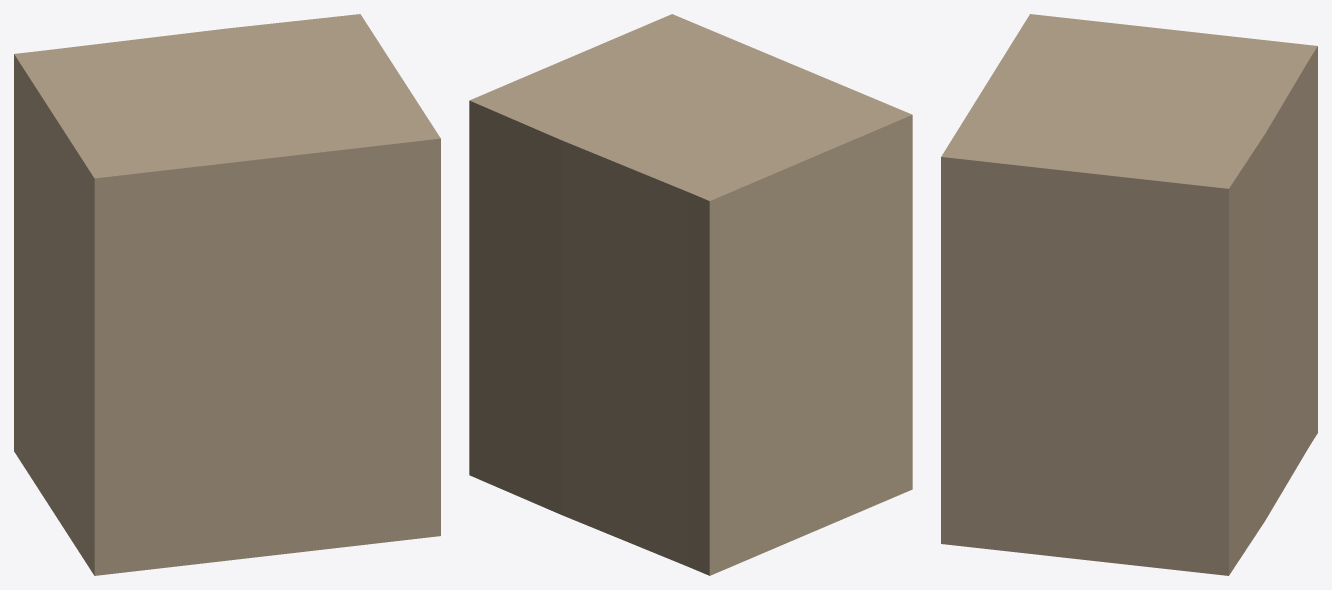
File: bld_106796841.dae
3 renders of one model, left to right at view 1: azimuth 30°, elevation 25°; view 2: azimuth 150°, elevation 25°; view 3: azimuth 270°, elevation 25°, orthographic. The views are drawn at different scales.
Visible parts, largest first — view 1: bld_106796841; view 2: bld_106796841; view 3: bld_106796841.
Boxes of the visible parts, box(x1,y1,x2,y2) form: bld_106796841: box(14, 14, 440, 575); bld_106796841: box(469, 14, 912, 575); bld_106796841: box(941, 14, 1317, 575).
Size of the model in its own units: 7.75 by 7.06 by 8.
